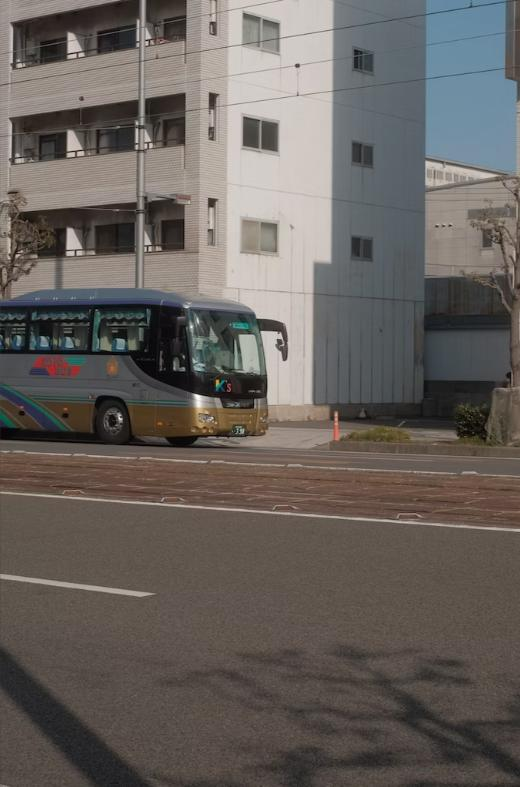vehicle: (0, 287, 288, 447)
